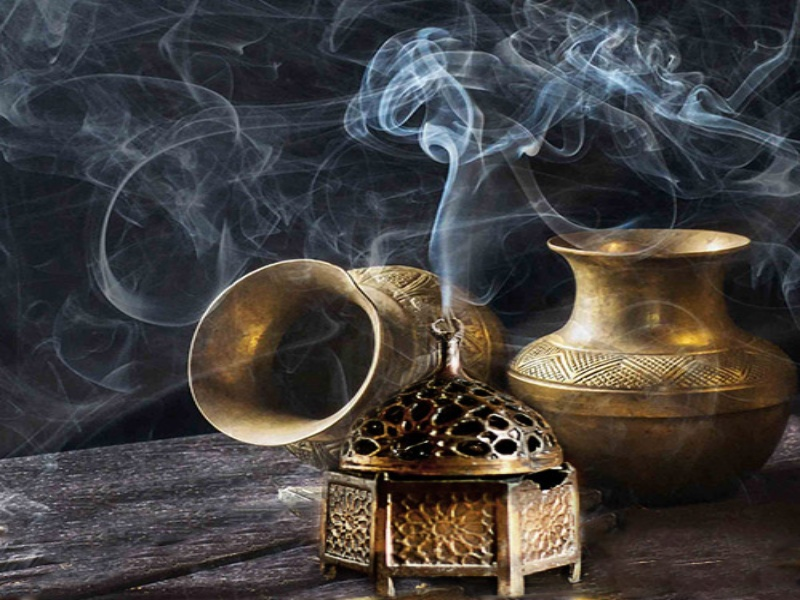smoke: (344, 19, 685, 187)
